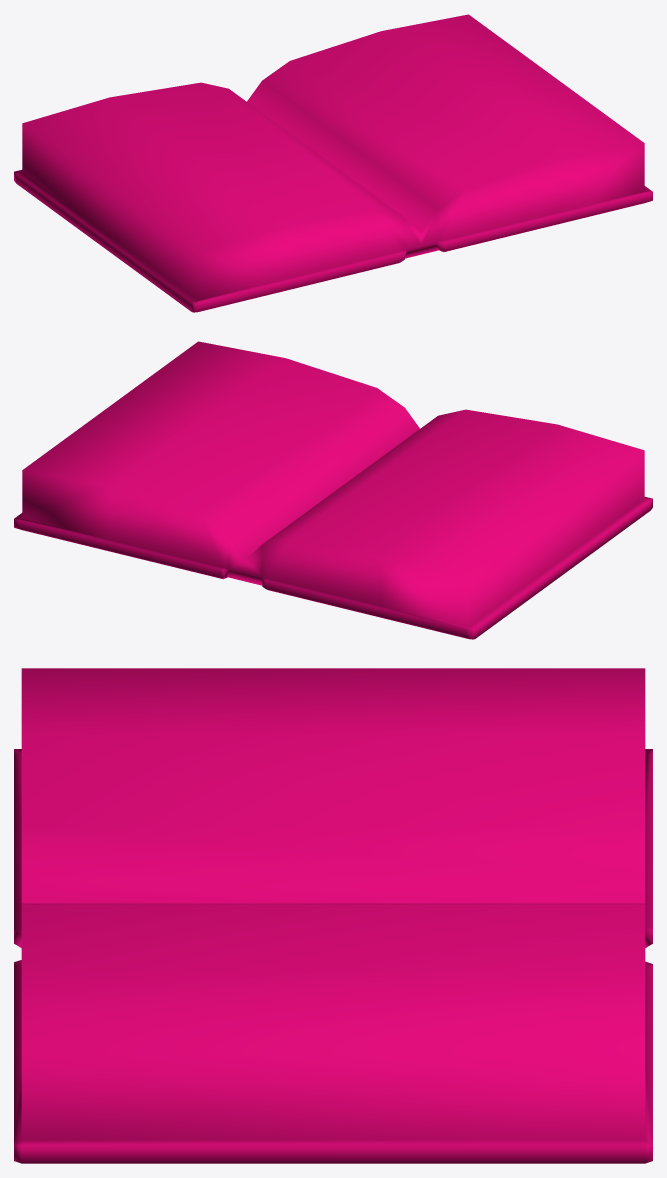
The model's file is Book_Open_01.fbx.
3 renders of one model, top to bottom at view 1: azimuth 30°, elevation 25°; view 2: azimuth 150°, elevation 25°; view 3: azimuth 270°, elevation 25°, orthographic. The views are drawn at different scales.
Visible parts, largest first — view 1: Book_Open_01; view 2: Book_Open_01; view 3: Book_Open_01.
Part boxes in pixels (bbox=[...]): Book_Open_01: bbox=[14, 14, 652, 312]; Book_Open_01: bbox=[14, 341, 652, 639]; Book_Open_01: bbox=[14, 668, 652, 1163].
Bounding box in the file's own units: 46.77 × 6.3 × 31.85.
